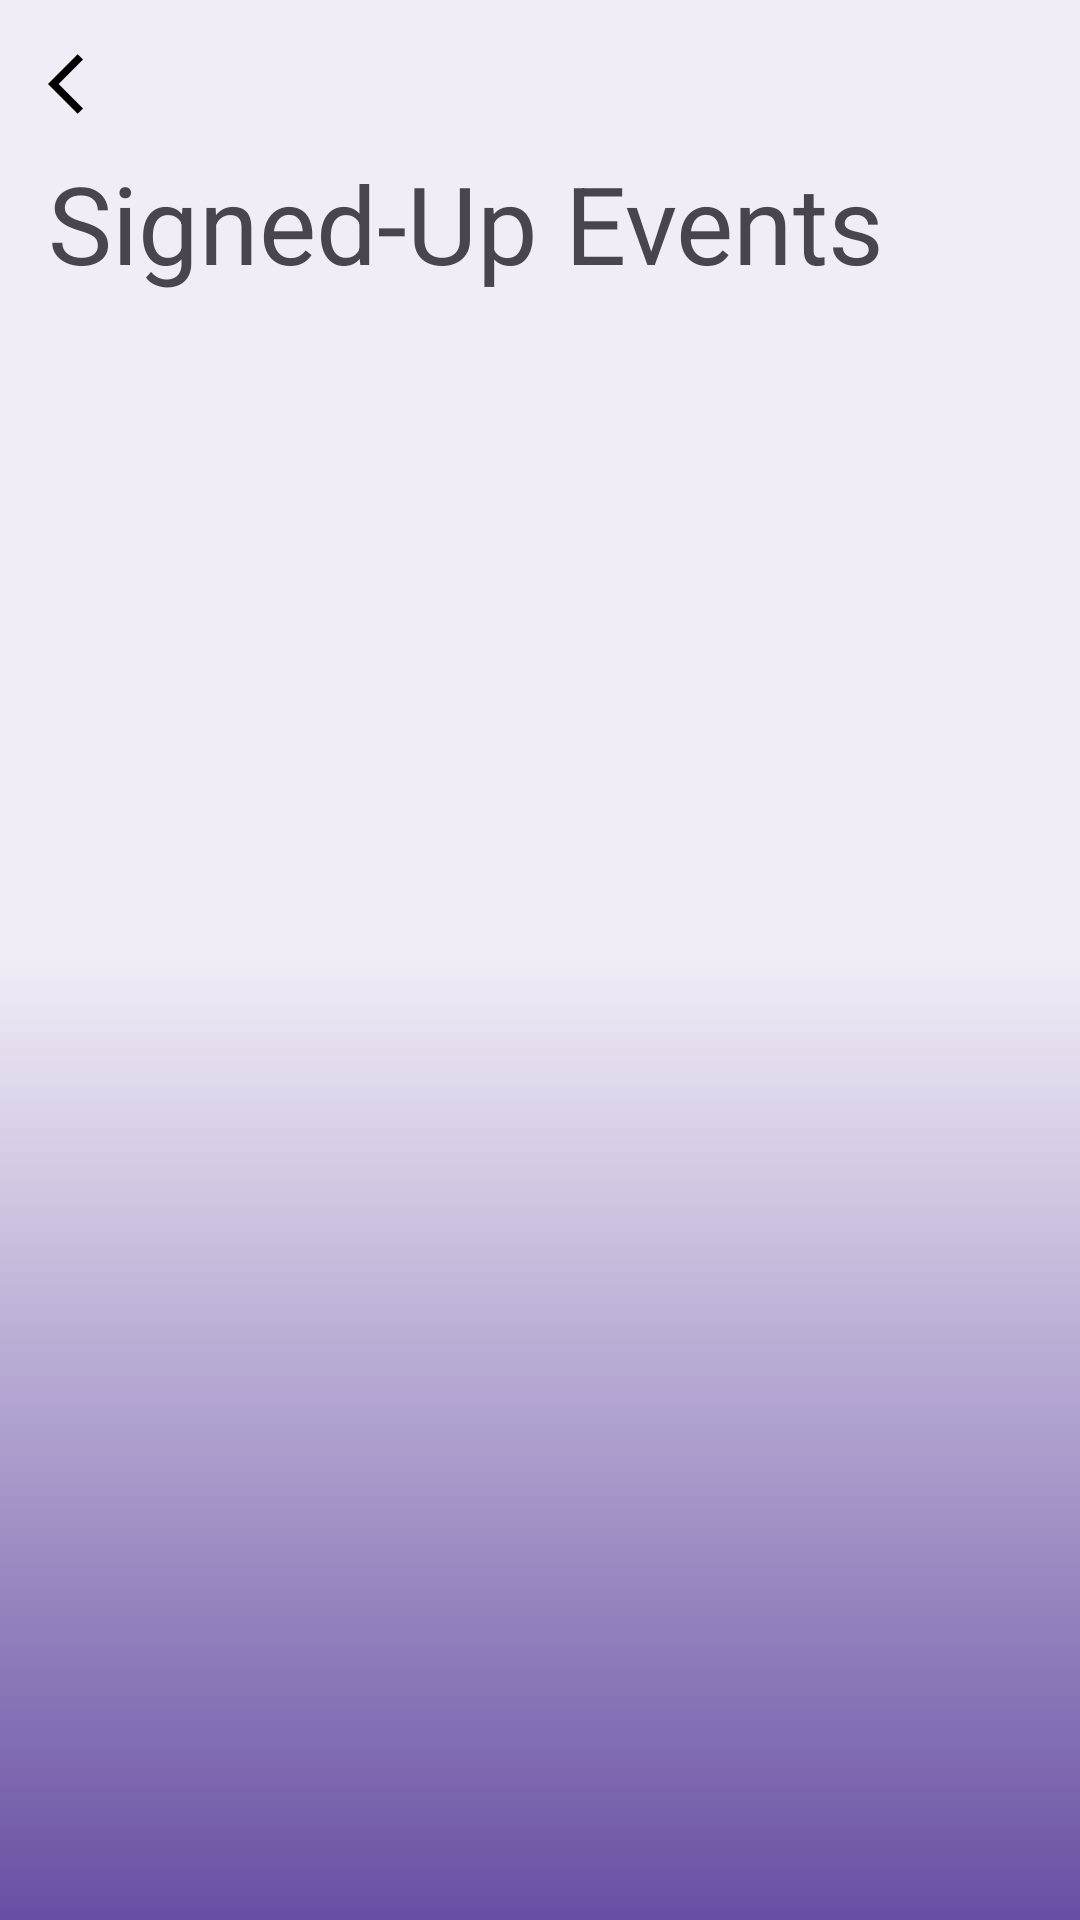

Named icons in this screenshot (1080px x 1920px) and their bounding boxes, (x1, y1, x2, y2):
back arrow: (48, 54, 83, 114)
